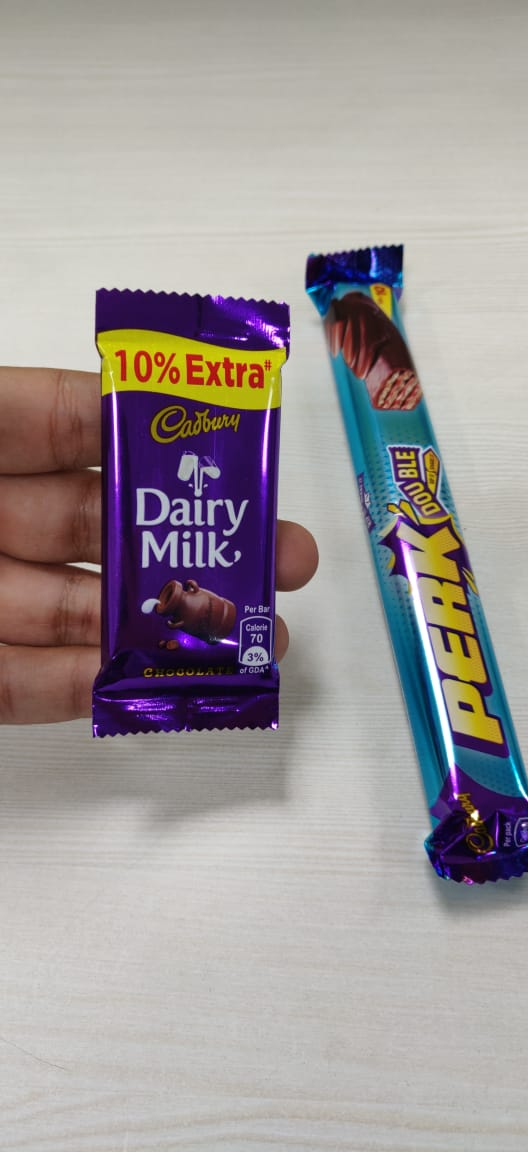dairy milk: (80, 272, 298, 765)
perk: (298, 244, 528, 915)
